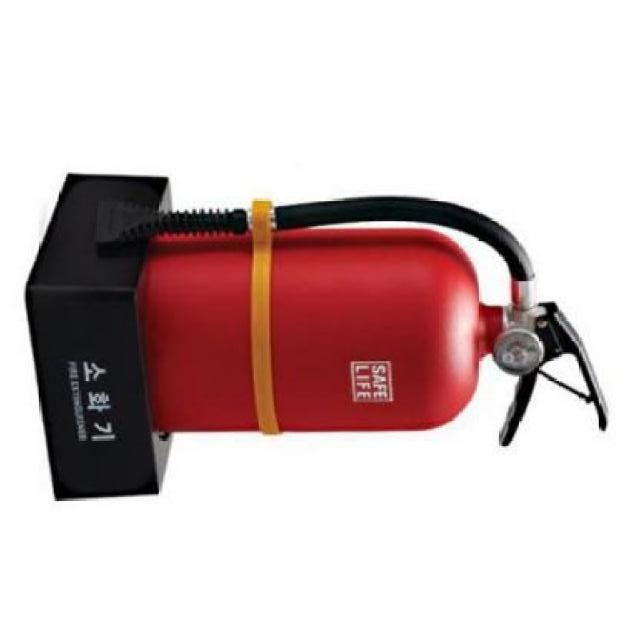fire extinguisher: (93, 195, 610, 448)
